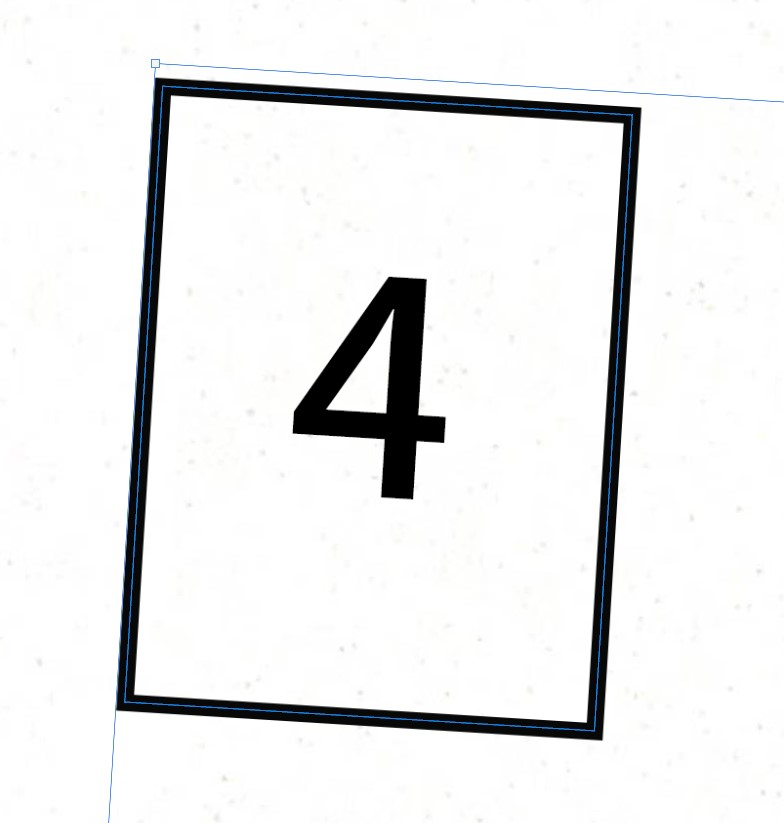four: (252, 205, 499, 569)
